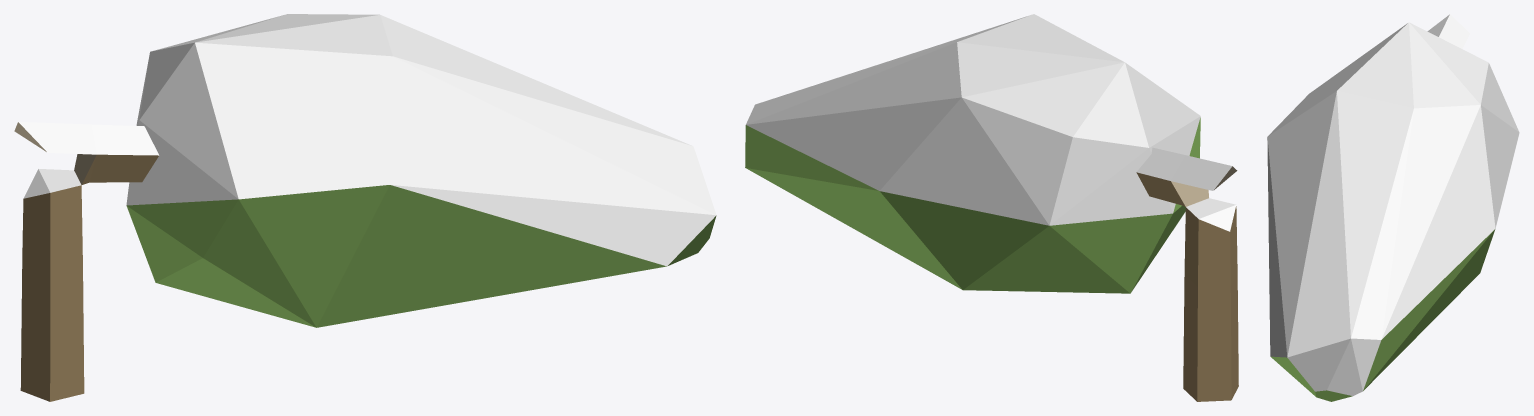
The model's file is Thuja_Tree_crk_s_Snow_02_LOD.fbx.
3 views of the same model, side by side, from view 1: azimuth 30°, elevation 25°; view 2: azimuth 150°, elevation 25°; view 3: azimuth 270°, elevation 25° (orthographic). The views are drawn at different scales.
Parts seen in each view (by area): view 1: Thuja_Tree_crk_s_Snow_02_LOD0; view 2: Thuja_Tree_crk_s_Snow_02_LOD0; view 3: Thuja_Tree_crk_s_Snow_02_LOD0.
Part boxes in pixels (left/top/right/bottom): Thuja_Tree_crk_s_Snow_02_LOD0: left=14, top=14, right=716, bottom=401; Thuja_Tree_crk_s_Snow_02_LOD0: left=745, top=14, right=1238, bottom=401; Thuja_Tree_crk_s_Snow_02_LOD0: left=1267, top=14, right=1519, bottom=401.
Size of what is drawn, in the model's own units: 235 by 121 by 109.
